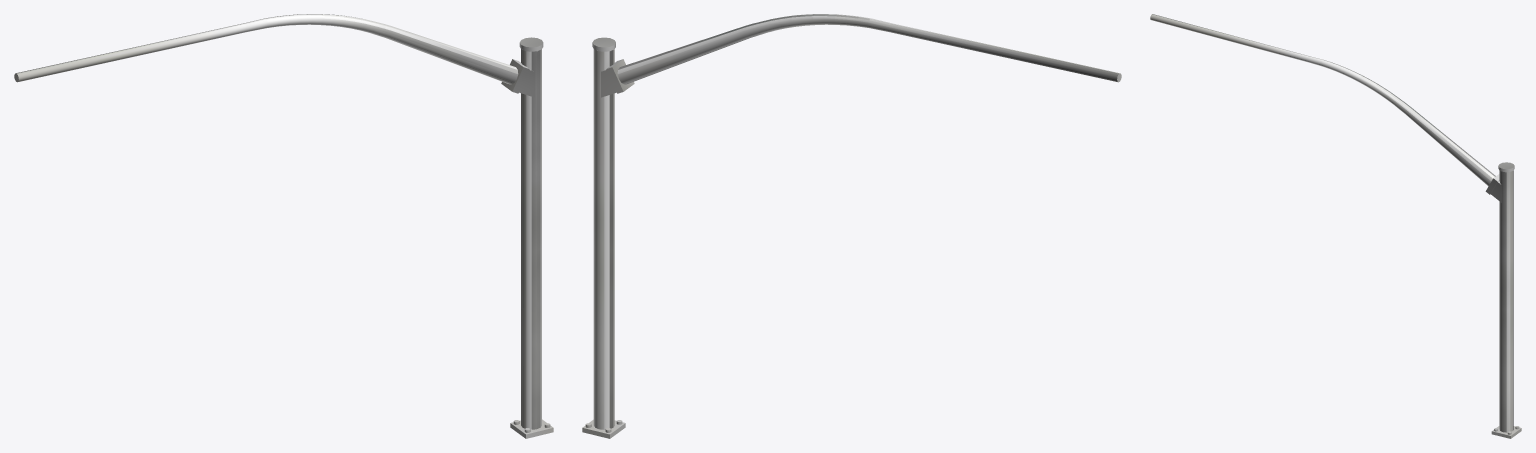
The model's file is mast.glb.
The picture shows the model from 3 angles, left to right: view 1: azimuth 30°, elevation 25°; view 2: azimuth 150°, elevation 25°; view 3: azimuth 330°, elevation 25°; orthographic projection. The views are drawn at different scales.
Parts seen in each view (by area): view 1: mast; view 2: mast; view 3: mast.
Boxes of the visible parts, left/top/right/bottom form: mast: left=14, top=14, right=553, bottom=438; mast: left=582, top=14, right=1121, bottom=438; mast: left=1150, top=14, right=1521, bottom=438.
Size of the model in its own units: 8.47 by 7.37 by 0.4369.
2 materials, 2 textured.
